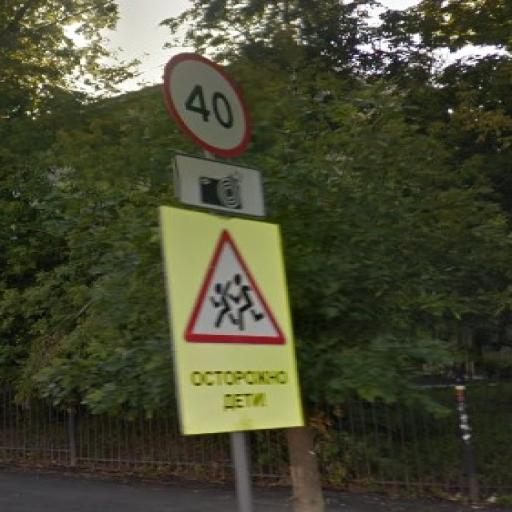traffic_sign: (185, 228, 287, 348), (163, 51, 254, 159)
